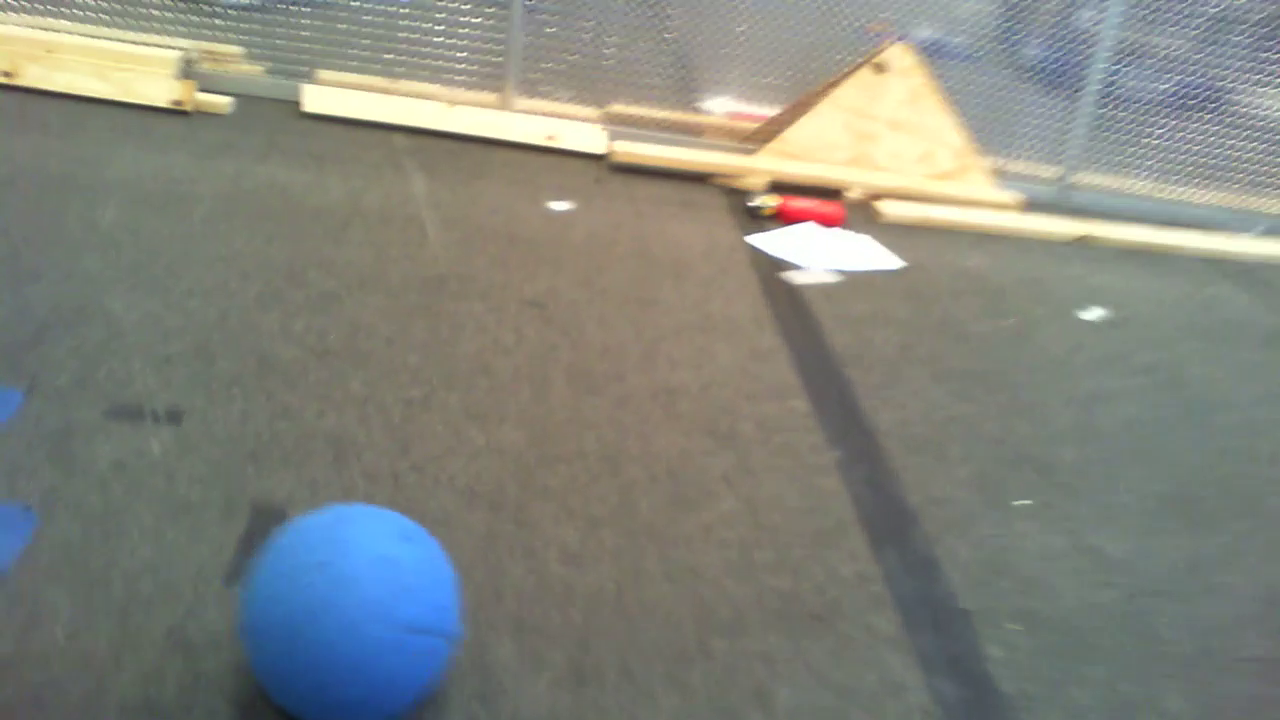blue_cargo: (229, 504, 477, 715)
